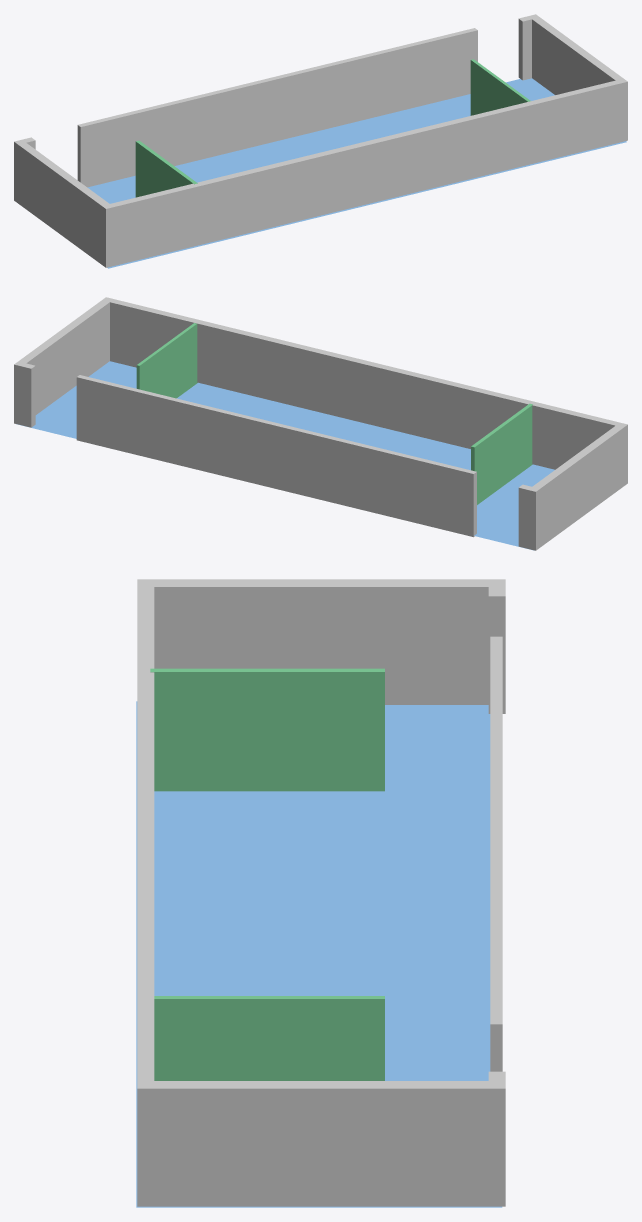
Rendered from fangzi92_1fbx.FBX.
The picture shows the model from 3 angles, top to bottom: view 1: azimuth 30°, elevation 25°; view 2: azimuth 150°, elevation 25°; view 3: azimuth 270°, elevation 25°; orthographic projection. The views are drawn at different scales.
Parts seen in each view (by area): view 1: Rectangle002, Box003, Plane001, Box002, Box001; view 2: Rectangle002, Box003, Plane001, Box002, Box001; view 3: Rectangle002, Plane001, Box002, Box001, Box003.
Boxes of the visible parts, x1,y1,x2,y2 form: Rectangle002: (14, 14, 627, 267); Box003: (77, 28, 477, 187); Plane001: (87, 78, 626, 268); Box002: (135, 140, 197, 197); Box001: (470, 59, 530, 115); Rectangle002: (14, 297, 627, 550); Box003: (76, 375, 476, 537); Plane001: (16, 361, 554, 550); Box002: (471, 403, 532, 504); Box001: (136, 323, 197, 398); Rectangle002: (137, 579, 505, 1206); Plane001: (136, 701, 502, 1207); Box002: (150, 668, 384, 791); Box001: (154, 996, 384, 1080); Box003: (490, 636, 502, 1071).
Bounding box in the file's own units: 3244 × 375 × 994.
